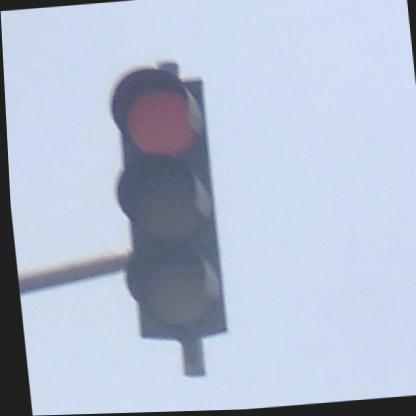red: (104, 66, 225, 341)
